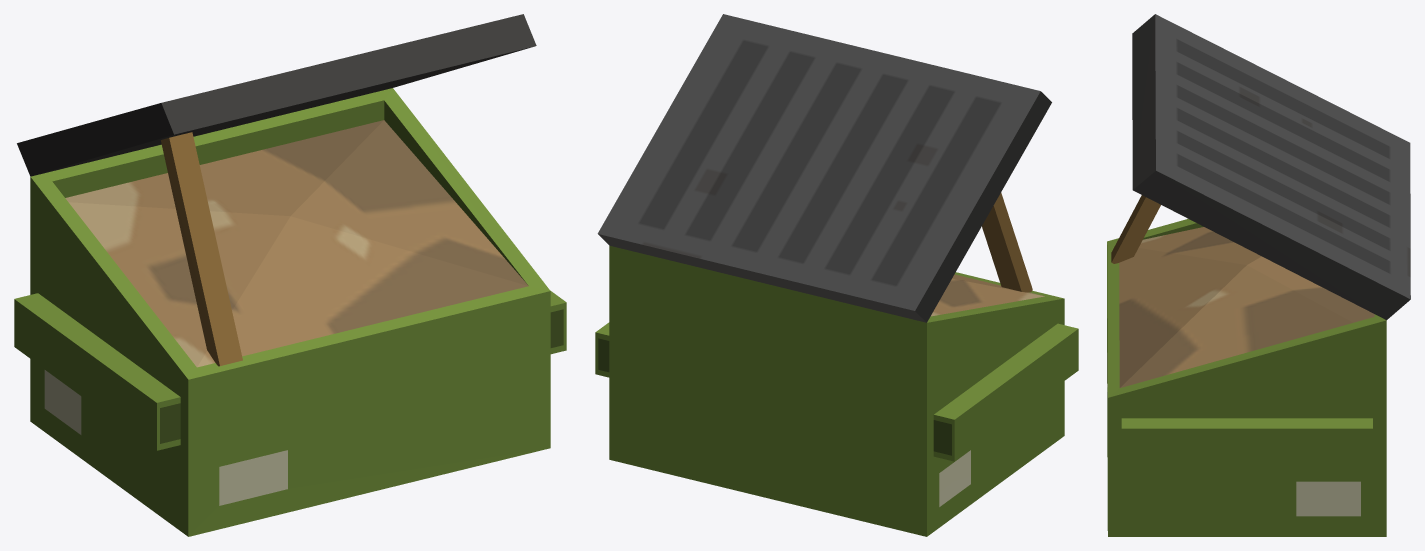
The model's file is SM_Dumpster_Open_01.fbx.
3 renders of one model, left to right at view 1: azimuth 30°, elevation 25°; view 2: azimuth 150°, elevation 25°; view 3: azimuth 270°, elevation 25°, orthographic. The views are drawn at different scales.
Visible parts, largest first — view 1: SM_Dumpster_Open_01; view 2: SM_Dumpster_Open_01; view 3: SM_Dumpster_Open_01.
Part boxes in pixels (box(x1,y1,x2,y2)): SM_Dumpster_Open_01: box(14, 14, 566, 536); SM_Dumpster_Open_01: box(595, 14, 1078, 536); SM_Dumpster_Open_01: box(1107, 14, 1410, 536).
Size of the model in its own units: 3.29 by 3.17 by 2.38.
